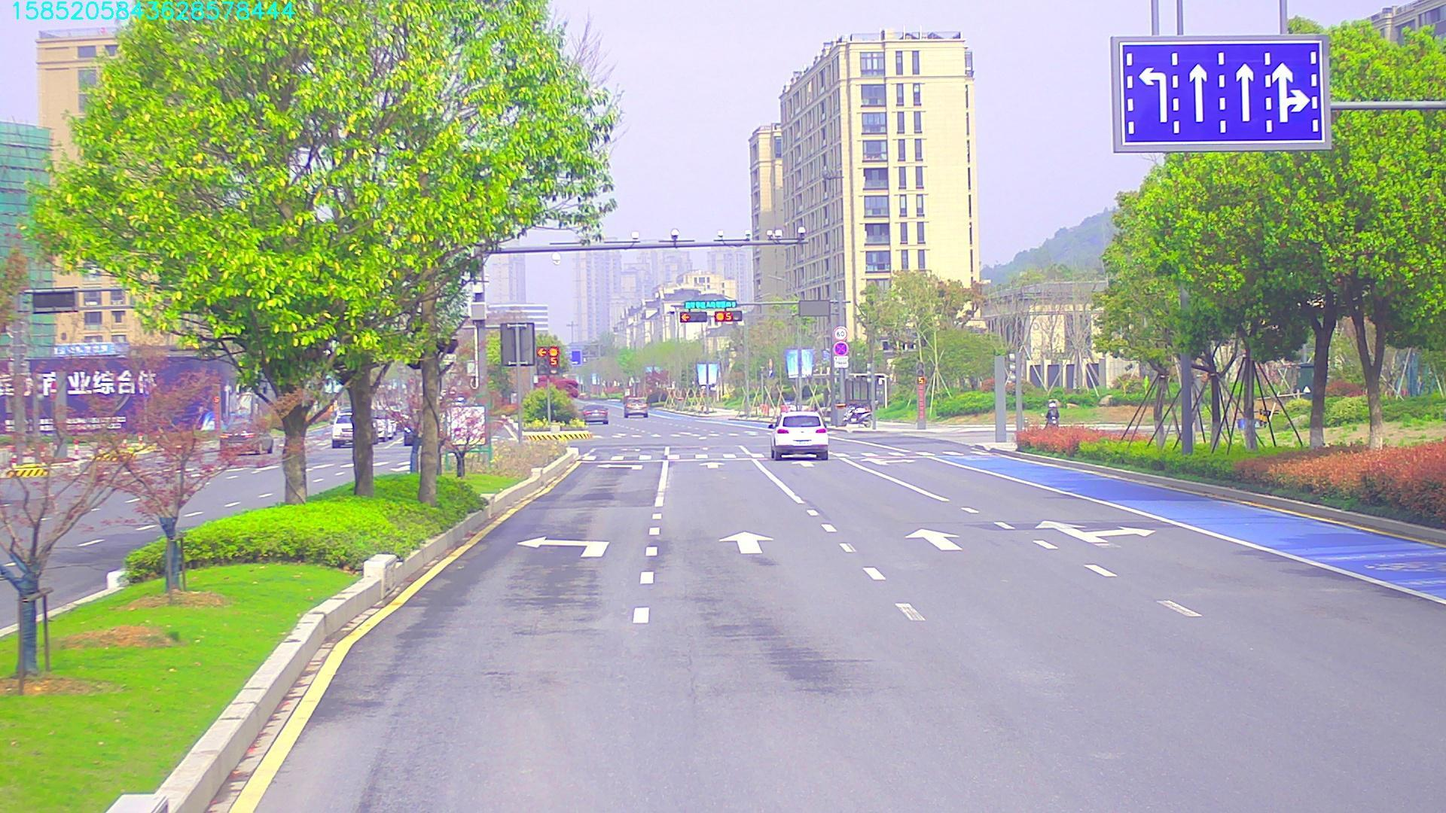red: (713, 309, 744, 324), (679, 309, 709, 320)
wait_on: (682, 299, 737, 309)
